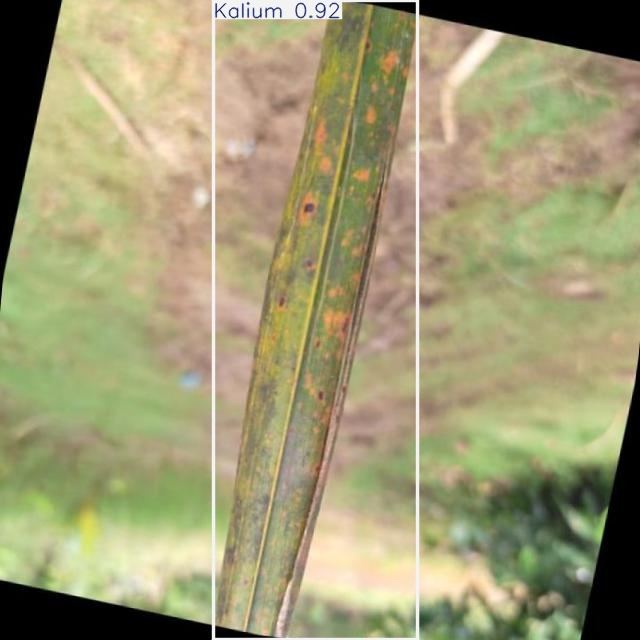Kalium: (213, 1, 417, 640)
